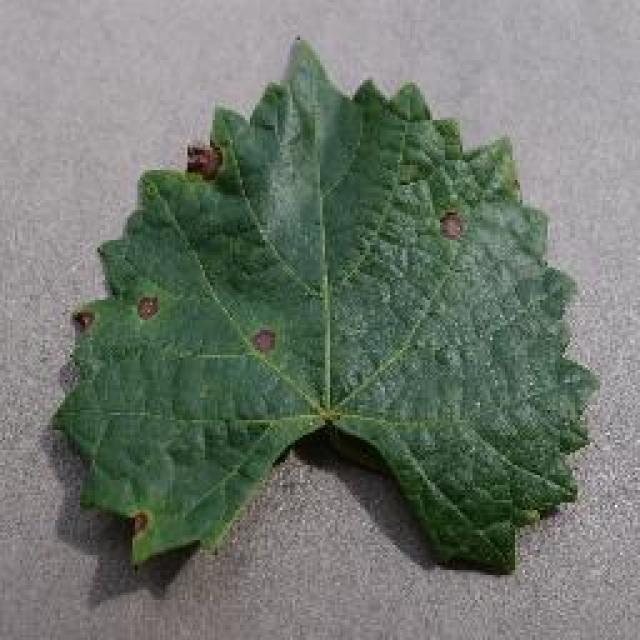Grape___Black_rot: (50, 34, 606, 573)
